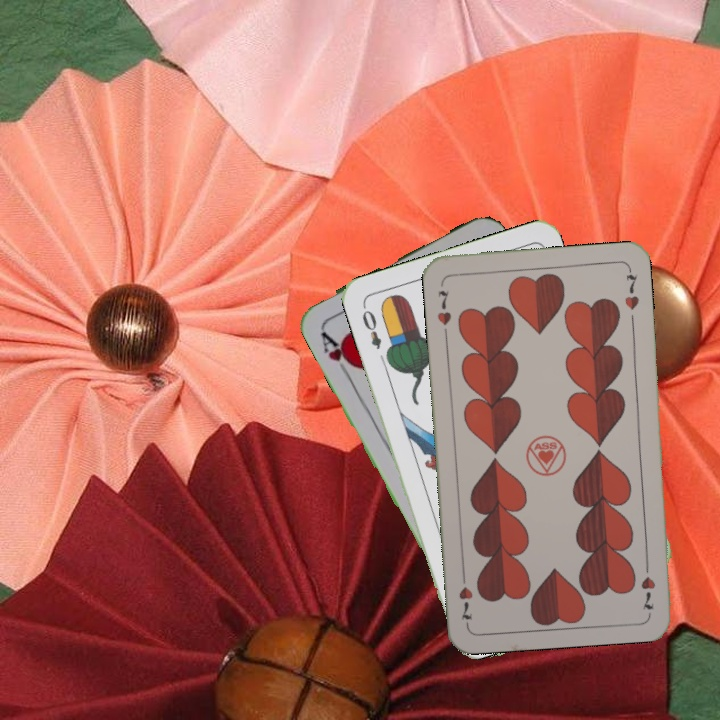EO: (358, 301, 384, 352)
H7: (637, 556, 658, 612), (433, 286, 454, 328)
HA: (317, 327, 357, 380)
